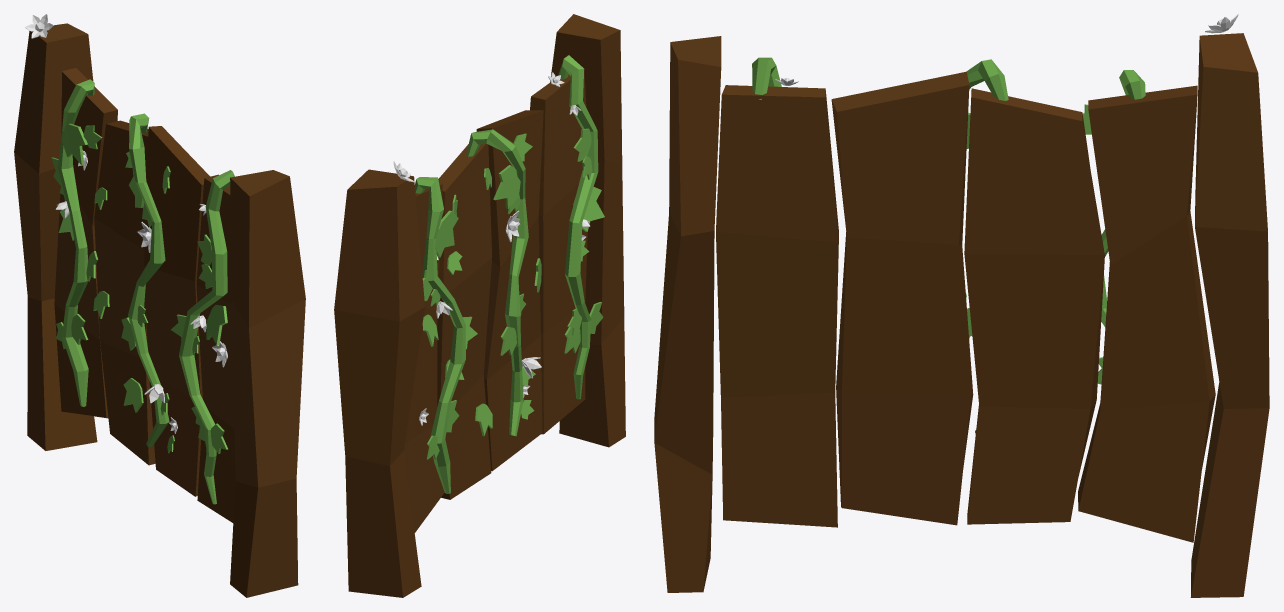
Rendered from Tengman1105.fbx.
3 renders of one model, left to right at view 1: azimuth 30°, elevation 25°; view 2: azimuth 150°, elevation 25°; view 3: azimuth 270°, elevation 25°, orthographic. The views are drawn at different scales.
Visible parts, largest first — view 1: Cube.002, Cylinder.014, Cylinder.016, Cylinder.013, Cube.021, Cube.019, Cube.004, Cube.008; view 2: Cube.002, Cube.021, Cylinder.014, Cylinder.016, Cylinder.013, Cube.004, Cube.019, Cube.008; view 3: Cube.002, Cylinder.013, Cylinder.016, Cylinder.014.
Boxes of the visible parts, x1,y1,x2,y2 form: Cube.002: [14, 23, 305, 597]; Cylinder.014: [179, 170, 234, 504]; Cylinder.016: [57, 79, 94, 406]; Cylinder.013: [128, 113, 169, 447]; Cube.021: [51, 123, 227, 453]; Cube.019: [25, 14, 227, 433]; Cube.004: [94, 151, 186, 453]; Cube.008: [206, 305, 227, 345]; Cube.002: [334, 14, 625, 597]; Cube.021: [422, 128, 603, 459]; Cylinder.014: [558, 55, 598, 399]; Cylinder.016: [415, 177, 465, 493]; Cylinder.013: [466, 129, 528, 436]; Cube.004: [447, 133, 541, 436]; Cube.019: [393, 72, 590, 425]; Cube.008: [573, 187, 604, 231]; Cube.002: [654, 33, 1269, 597]; Cylinder.013: [965, 59, 1008, 297]; Cylinder.016: [1101, 70, 1145, 326]; Cylinder.014: [752, 57, 781, 99].
Bounding box in the file's own units: 41.9 × 228 × 228.
